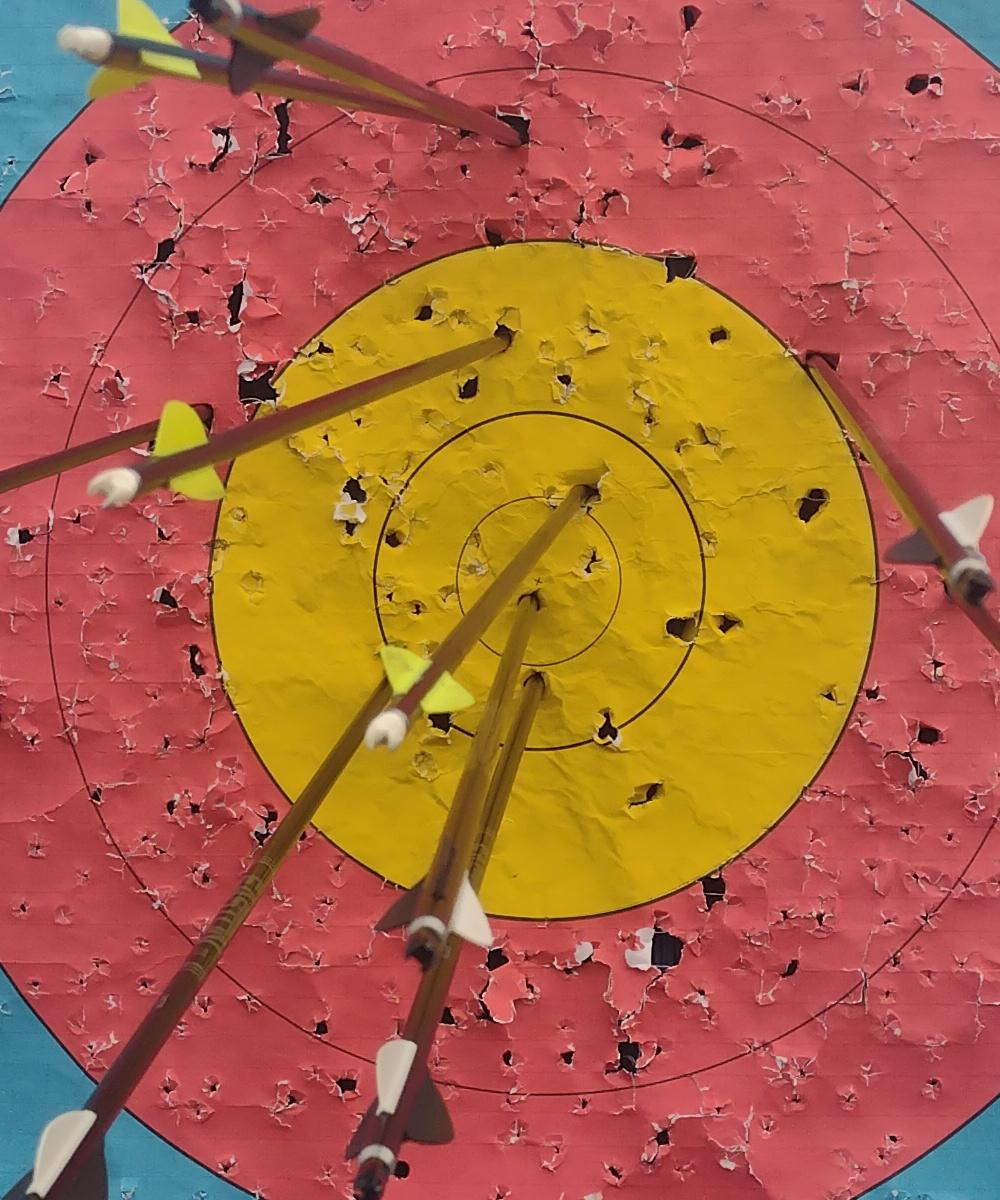10-Ring: (318, 359, 764, 807)
8-Ring: (44, 70, 1000, 1097)
9-Ring: (211, 243, 876, 920)
Arrow: (0, 629, 403, 1200), (335, 660, 562, 1200), (367, 594, 627, 992), (72, 310, 527, 533), (338, 442, 589, 781)
